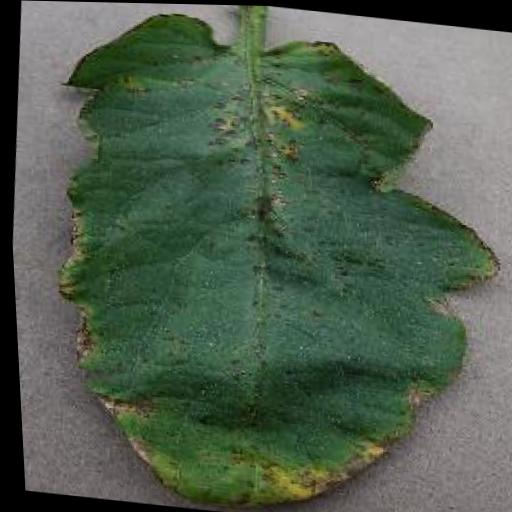Bacterial Spot: (18, 0, 512, 512)
